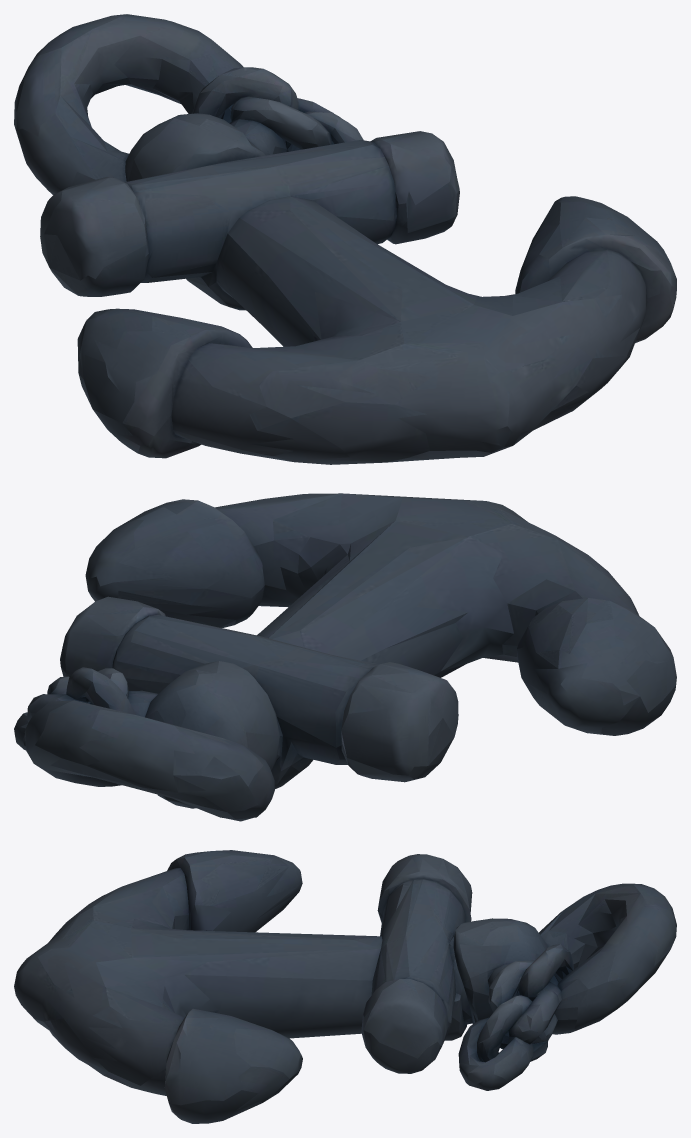
File: hav-anker.glb
3 views of the same model, one above another, from view 1: azimuth 30°, elevation 25°; view 2: azimuth 150°, elevation 25°; view 3: azimuth 270°, elevation 25° (orthographic). The views are drawn at different scales.
Size of the model in its own units: 1.47 by 0.4375 by 1.9.
Materials: 1 (1 with a texture image).
